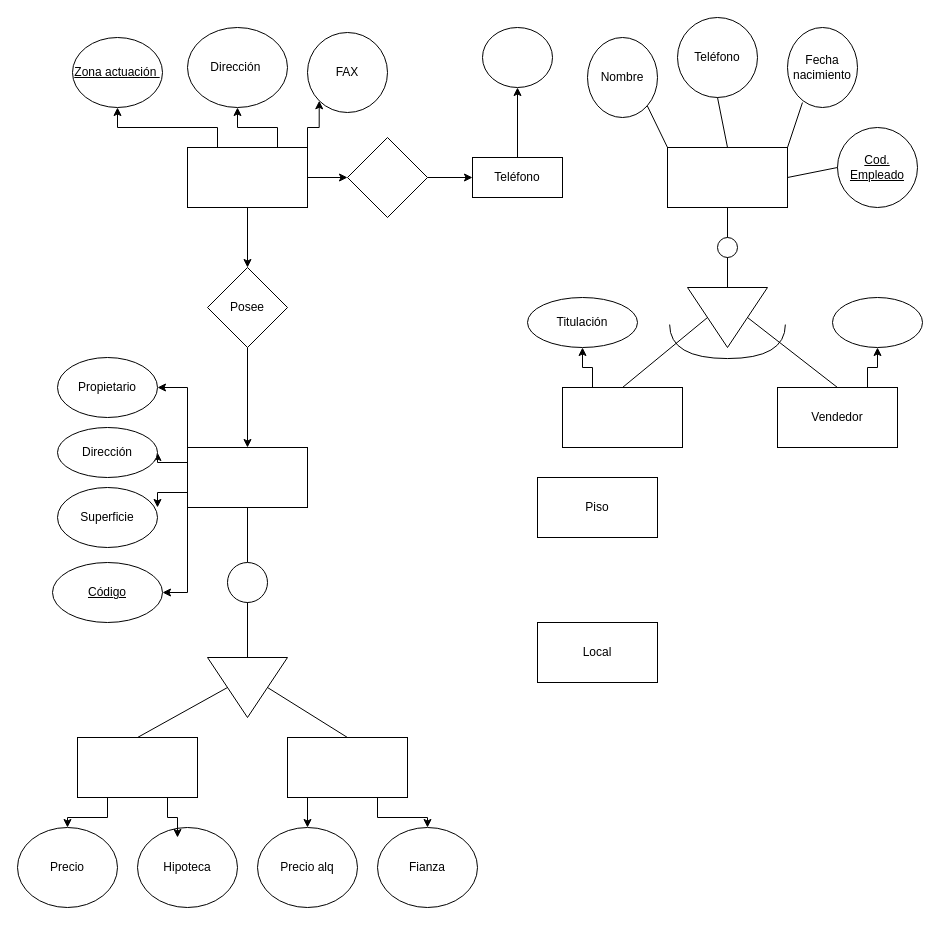
This 940x925 diagram has some shape labels left out. The centre of each missing label's shape, as x and y in pixels:
"Agencia" goes at point 247,177.
"Alquiler" goes at point 347,767.
"Comisión" goes at point 877,322.
"Empleado" goes at point 727,177.
"Inmueble" goes at point 247,477.
"Número" goes at point 517,57.
"Tiene" goes at point 387,177.
"Titular" goes at point 622,417.
"Venta" goes at point 137,767.
